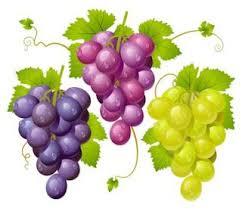Black grapes: (10, 75, 98, 201)
Green grapes: (148, 76, 232, 204)
Red Grapes: (74, 17, 165, 144)
